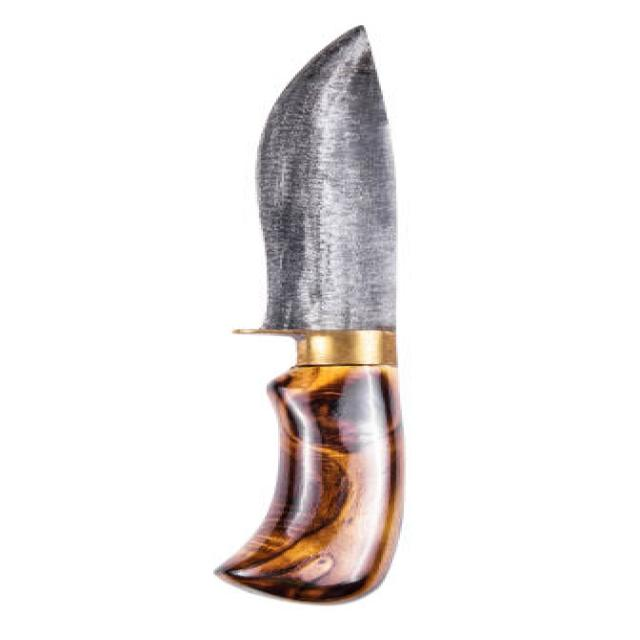knife: (223, 18, 512, 633)
